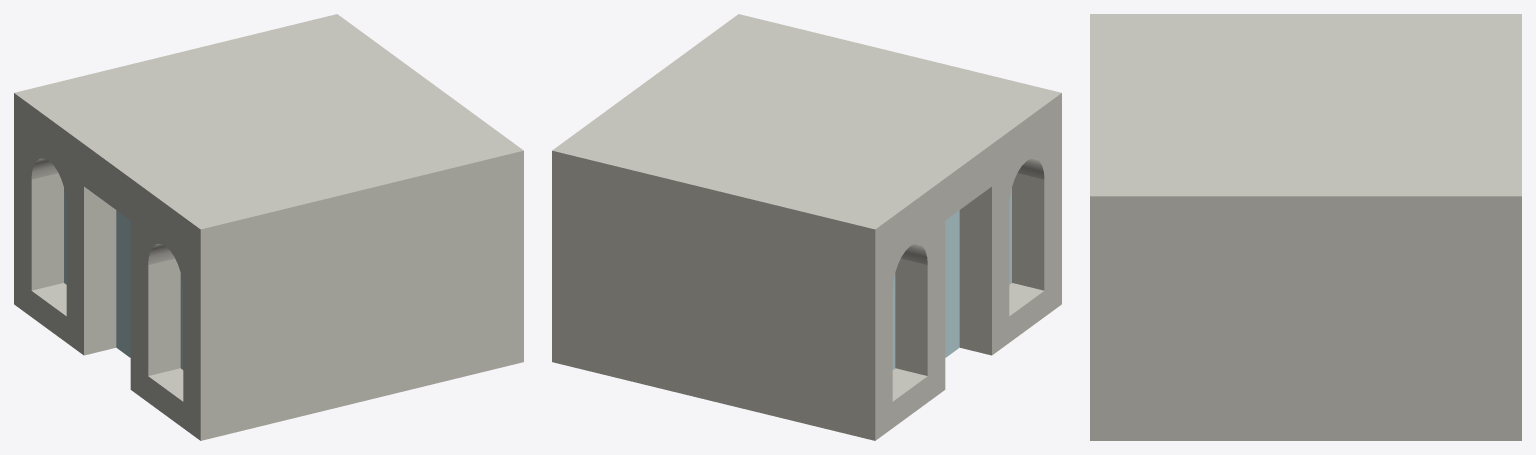
Rendered from modularBuildings_053.gltf.
The picture shows the model from 3 angles, left to right: view 1: azimuth 30°, elevation 25°; view 2: azimuth 150°, elevation 25°; view 3: azimuth 270°, elevation 25°; orthographic projection. The views are drawn at different scales.
Parts seen in each view (by area): view 1: Mesh1 Group1 Model; view 2: Mesh1 Group1 Model; view 3: Mesh1 Group1 Model.
Boxes of the visible parts, x1,y1,x2,y2 form: Mesh1 Group1 Model: (14, 14, 523, 440); Mesh1 Group1 Model: (552, 14, 1061, 440); Mesh1 Group1 Model: (1090, 14, 1521, 440).
Bounding box in the file's own units: 1 × 0.625 × 1.
